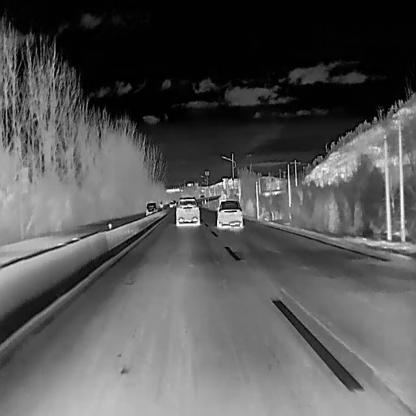car: (217, 200, 243, 229), (175, 196, 199, 224), (145, 202, 157, 214), (168, 200, 174, 207), (200, 194, 204, 198)
